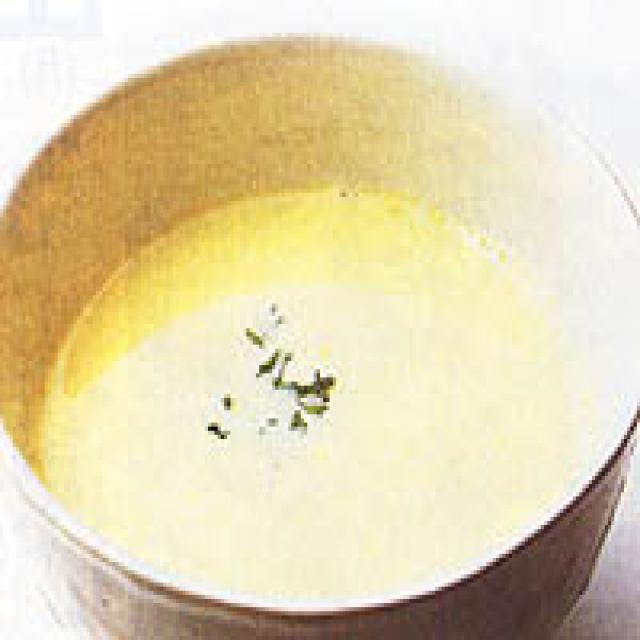汤锅炖物: (0, 24, 640, 640)
